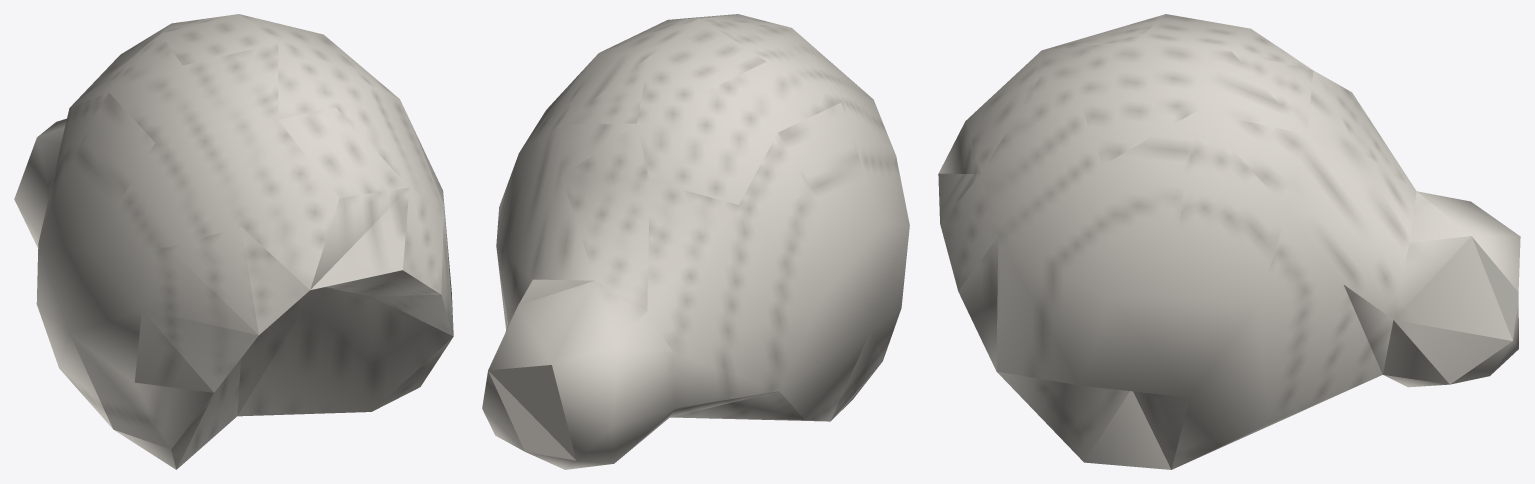
The model's file is toc_bui_edits.far.glb.
3 views of the same model, side by side, from view 1: azimuth 30°, elevation 25°; view 2: azimuth 150°, elevation 25°; view 3: azimuth 270°, elevation 25° (orthographic). The views are drawn at different scales.
Visible parts, largest first — view 1: toc_bui_edits; view 2: toc_bui_edits; view 3: toc_bui_edits.
Boxes of the visible parts, box(x1,y1,x2,y2) form: toc_bui_edits: box(14, 14, 453, 469); toc_bui_edits: box(482, 14, 909, 469); toc_bui_edits: box(938, 14, 1520, 469).
Bounding box in the file's own units: 0.1716 × 0.178 × 0.2434.
Materials: 1 (1 with a texture image).
